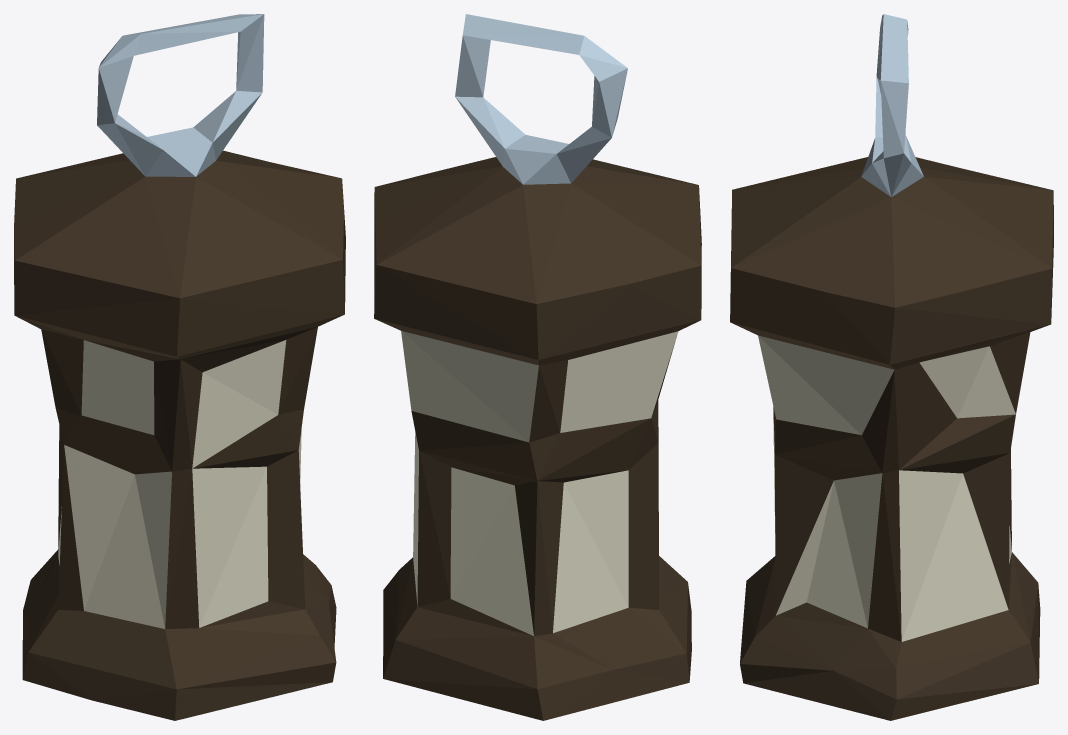
The model's file is lantern.glb.
3 renders of one model, left to right at view 1: azimuth 30°, elevation 25°; view 2: azimuth 150°, elevation 25°; view 3: azimuth 270°, elevation 25°, orthographic. The views are drawn at different scales.
Visible parts, largest first — view 1: first_lambert2_0; view 2: first_lambert2_0; view 3: first_lambert2_0.
Boxes of the visible parts, left/top/right/bottom form: first_lambert2_0: left=14, top=14, right=345, bottom=720; first_lambert2_0: left=374, top=14, right=701, bottom=720; first_lambert2_0: left=730, top=14, right=1053, bottom=720.
Size of the model in its own units: 4.07 by 7.36 by 3.53.
